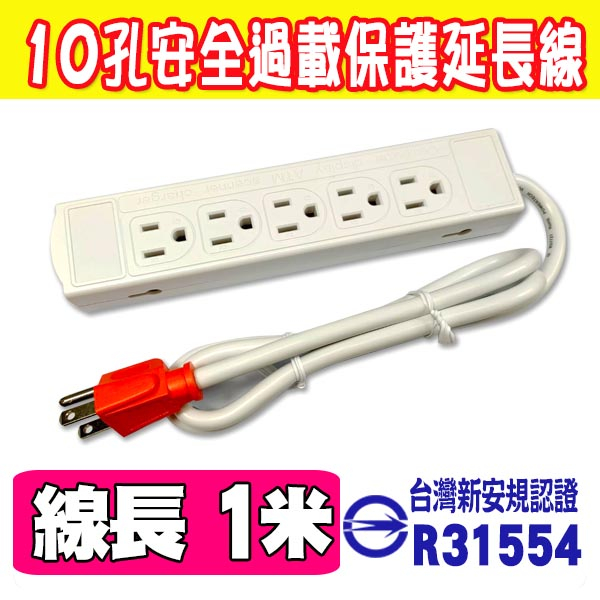socket: (45, 129, 528, 315)
